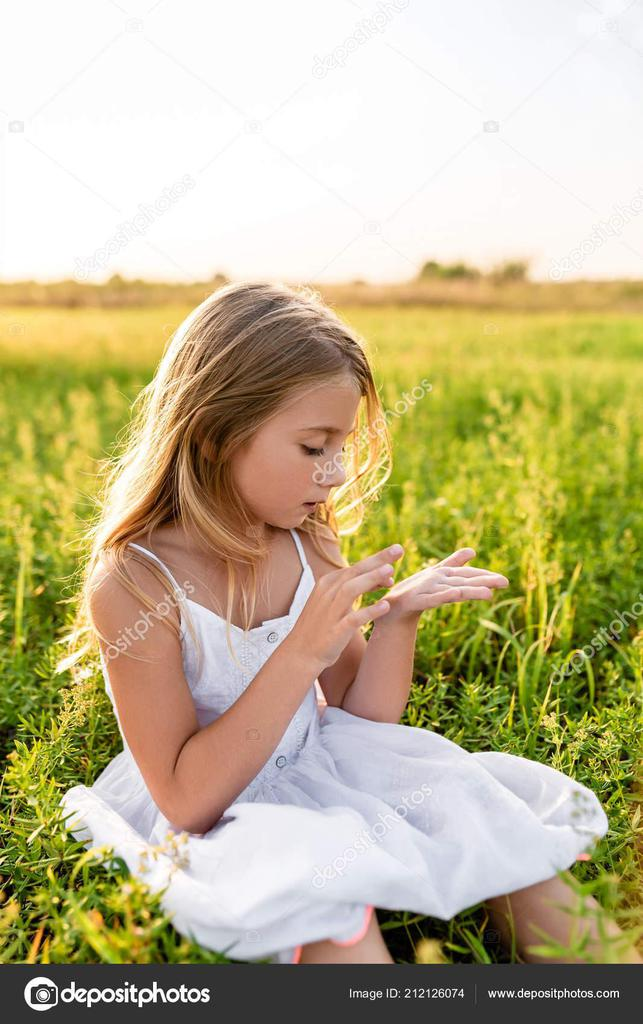child: (41, 275, 643, 964)
